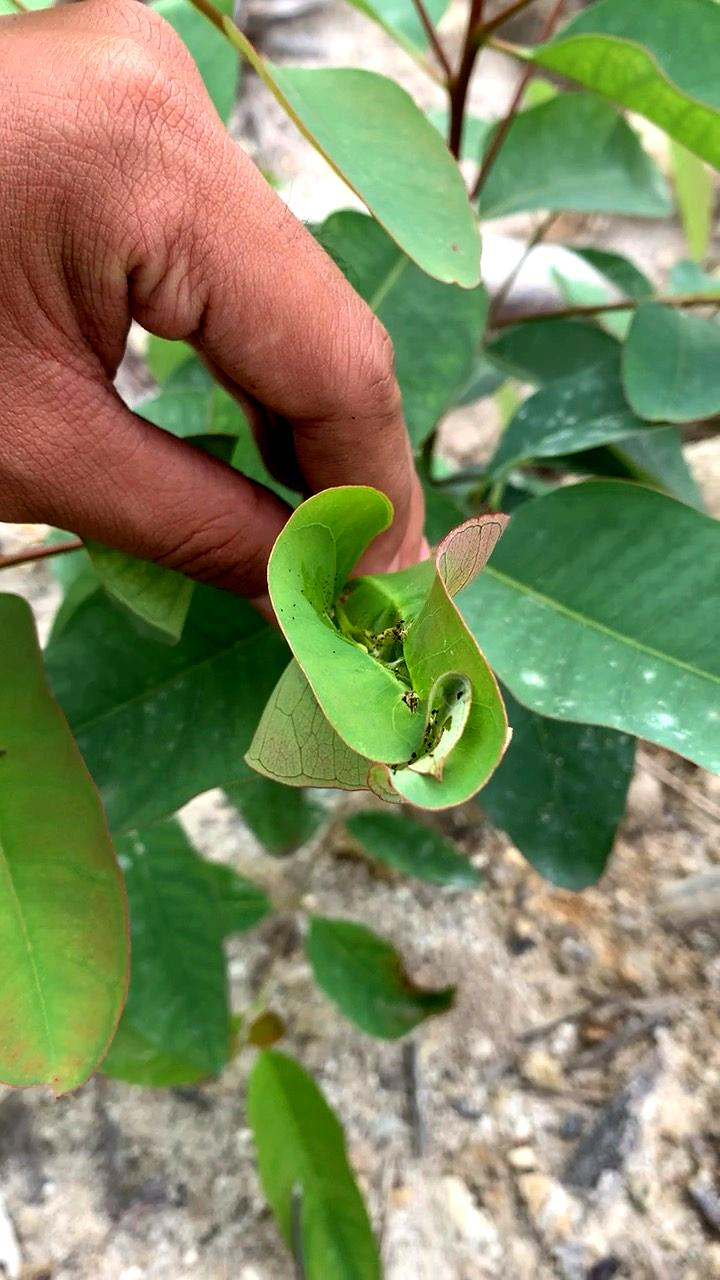Leaf Roller - Leaf: (255, 481, 558, 856)
